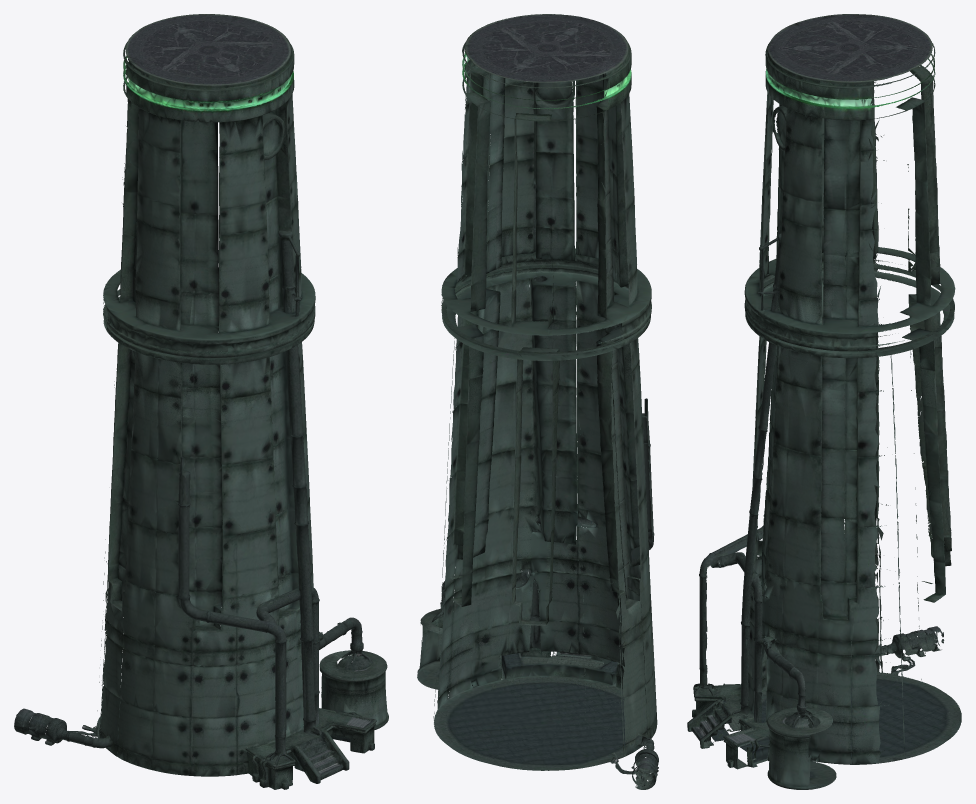
Rendered from reactor_tower.glb.
The picture shows the model from 3 angles, left to right: view 1: azimuth 30°, elevation 25°; view 2: azimuth 150°, elevation 25°; view 3: azimuth 270°, elevation 25°; orthographic projection.
Bounding box in the file's own units: 0.8867 × 1.9 × 0.7054.
Materials: 1 (1 with a texture image).
